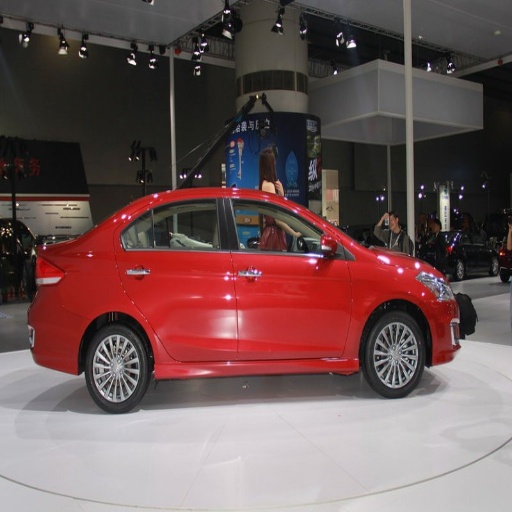back_right_door: (121, 193, 236, 359)
front_right_door: (228, 193, 350, 357)
